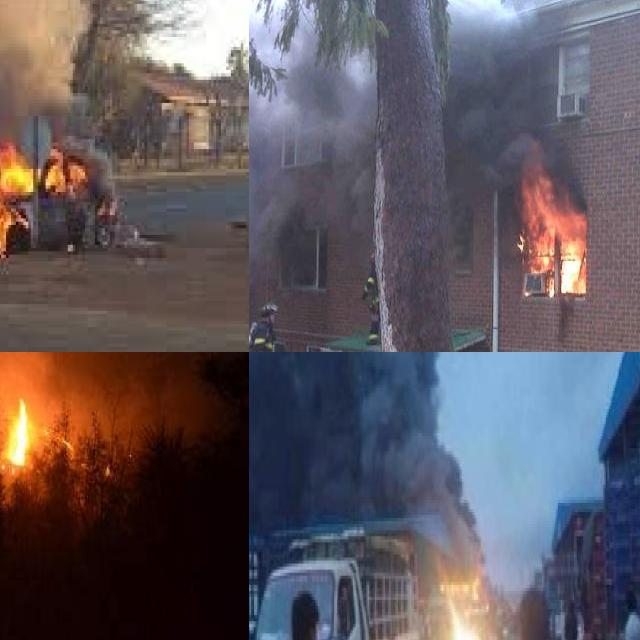fire: (0, 132, 94, 274), (516, 153, 588, 296), (0, 388, 26, 481)
smoke: (249, 5, 578, 251), (249, 352, 462, 524), (0, 0, 87, 129), (63, 140, 117, 196)
